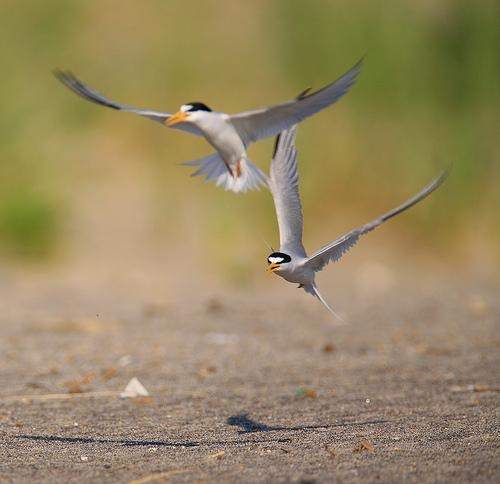bird: (50, 56, 365, 192), (255, 119, 448, 311)
